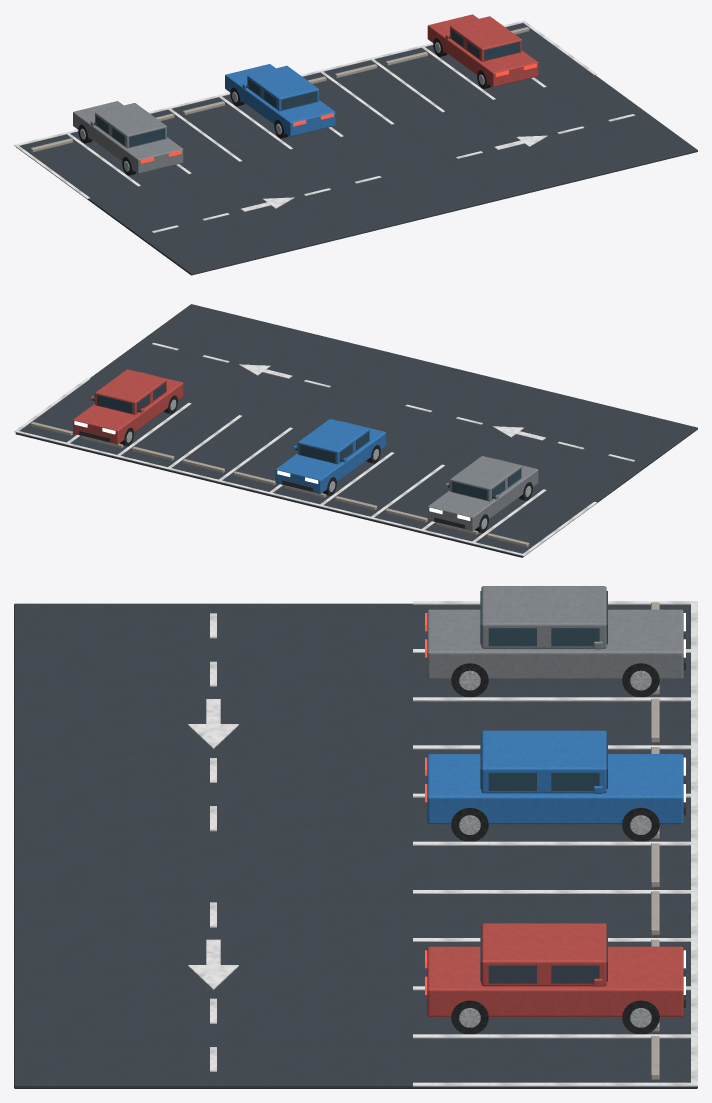
The model's file is ov-parking.glb.
The picture shows the model from 3 angles, top to bottom: view 1: azimuth 30°, elevation 25°; view 2: azimuth 150°, elevation 25°; view 3: azimuth 270°, elevation 25°; orthographic projection. The views are drawn at different scales.
Visible parts, largest first — view 1: ov-parking_lot, ov-parking_red_body, ov-parking_blue_body, ov-parking_grey_body, ov-parking_blue_roof, ov-parking_grey_roof, ov-parking_red_roof, ov-parking_space_line_north; view 2: ov-parking_lot, ov-parking_grey_body, ov-parking_blue_body, ov-parking_red_body, ov-parking_red_roof, ov-parking_blue_roof, ov-parking_grey_roof, ov-parking_space_line_north, ov-parking_blue_glass_wind; view 3: ov-parking_lot, ov-parking_blue_body, ov-parking_red_body, ov-parking_grey_body, ov-parking_red_roof, ov-parking_blue_roof, ov-parking_grey_roof, ov-parking_space_line_north, ov-parking_space_line_10, ov-parking_space_line_05, ov-parking_space_line_09, ov-parking_space_line_02 (+8 smaller).
Boxes of the visible parts, bbox=[...] form: ov-parking_lot: bbox=[16, 23, 697, 275]; ov-parking_red_body: bbox=[427, 14, 538, 87]; ov-parking_blue_body: bbox=[225, 64, 335, 136]; ov-parking_grey_body: bbox=[73, 101, 183, 173]; ov-parking_blue_roof: bbox=[247, 65, 319, 111]; ov-parking_grey_roof: bbox=[95, 103, 166, 148]; ov-parking_red_roof: bbox=[450, 16, 521, 61]; ov-parking_space_line_north: bbox=[16, 21, 522, 145]; ov-parking_lot: bbox=[15, 304, 697, 557]; ov-parking_grey_body: bbox=[427, 458, 538, 530]; ov-parking_blue_body: bbox=[275, 421, 386, 493]; ov-parking_red_body: bbox=[73, 372, 183, 444]; ov-parking_red_roof: bbox=[95, 369, 166, 414]; ov-parking_blue_roof: bbox=[298, 419, 369, 464]; ov-parking_grey_roof: bbox=[450, 456, 521, 501]; ov-parking_space_line_north: bbox=[16, 430, 523, 555]; ov-parking_blue_glass_wind: bbox=[299, 444, 335, 462]; ov-parking_lot: bbox=[14, 603, 697, 1088]; ov-parking_blue_body: bbox=[427, 754, 683, 824]; ov-parking_red_body: bbox=[427, 946, 683, 1016]; ov-parking_grey_body: bbox=[427, 609, 683, 679]; ov-parking_red_roof: bbox=[481, 923, 606, 986]; ov-parking_blue_roof: bbox=[481, 730, 606, 793]; ov-parking_grey_roof: bbox=[481, 586, 606, 648]; ov-parking_space_line_north: bbox=[691, 602, 697, 1082]; ov-parking_space_line_10: bbox=[413, 1082, 697, 1086]; ov-parking_space_line_05: bbox=[413, 841, 697, 845]; ov-parking_space_line_09: bbox=[413, 1034, 697, 1038]; ov-parking_space_line_02: bbox=[413, 697, 697, 701].
Size of the model in its own units: 20.12 by 1.45 by 12.
Materials: 13 (9 with a texture image).
